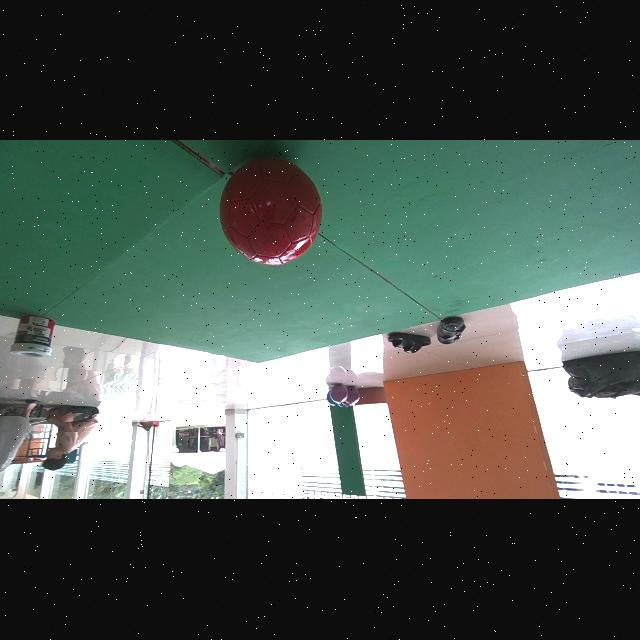P: (328, 385, 348, 406), (342, 388, 360, 407)
R: (220, 158, 322, 265)
